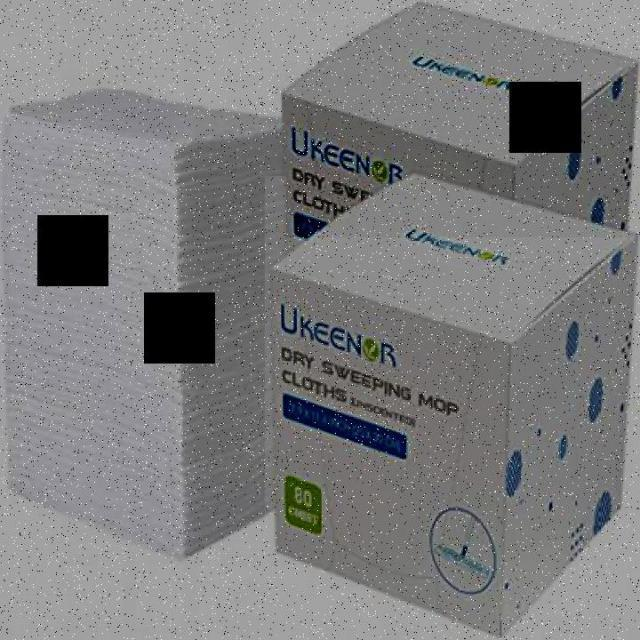box: (264, 176, 638, 636), (1, 76, 287, 610), (286, 0, 640, 237)
